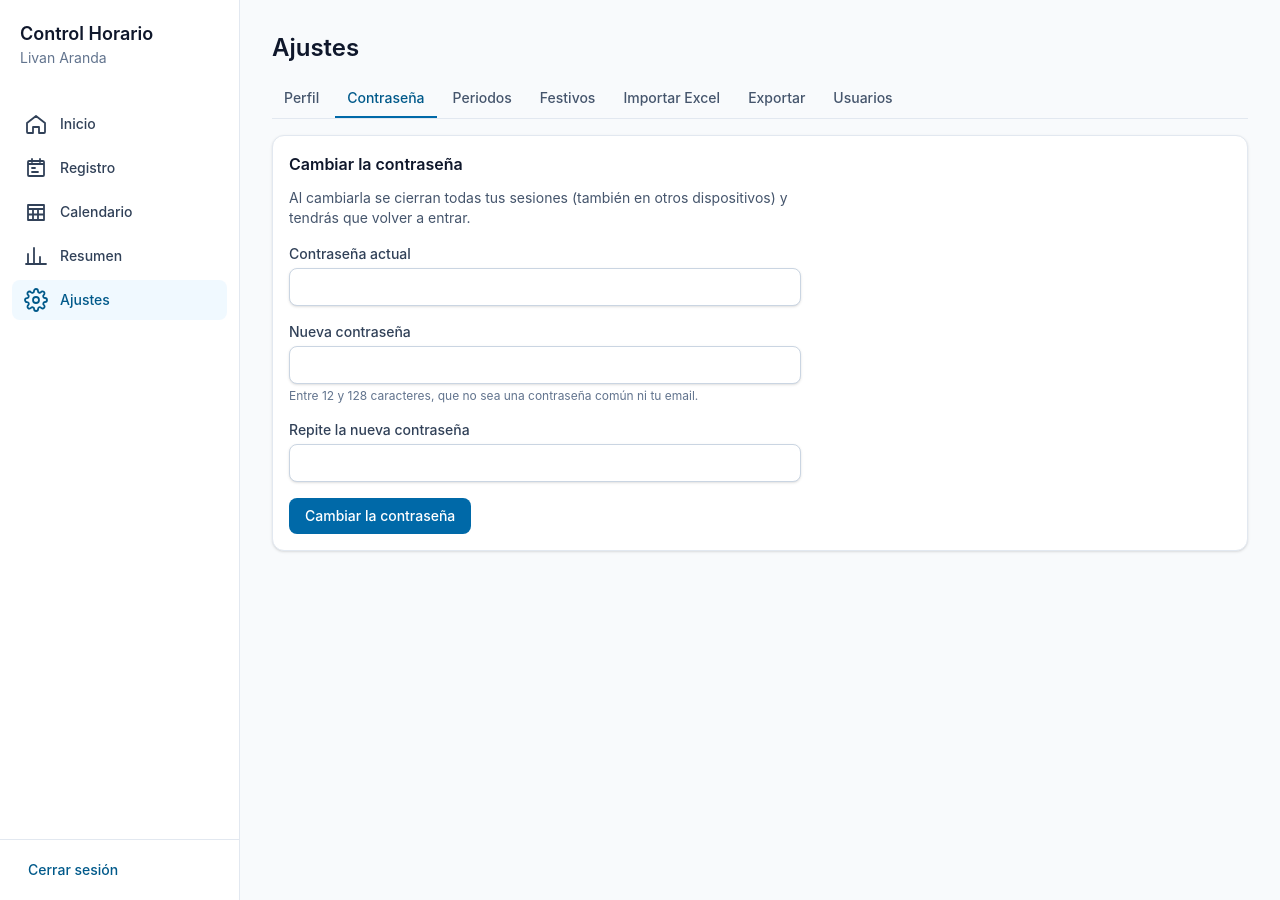
Scenario: Ajustes › cambiar la contraseña cierra la sesión y pide un nuevo login
The image size is (1280, 900).
Type "la-actual-de-siempre" into the password field labelled "Contraseña actual" at x=545, y=287, box [289, 268, 801, 306]
Type "corta" into the password field labelled "Nueva contraseña" at x=545, y=365, box [289, 346, 801, 384]
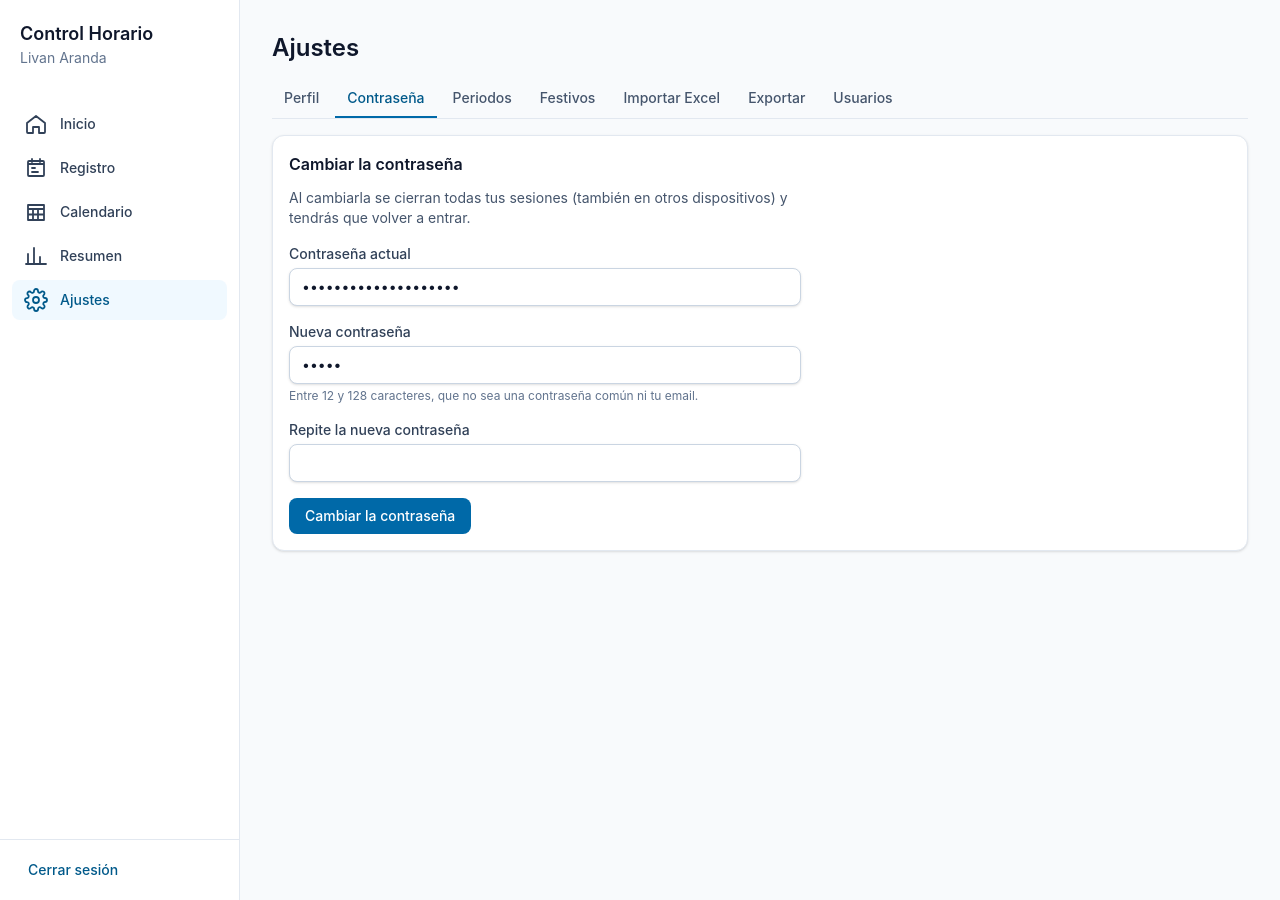
Type "otra" into the password field labelled "Repite la nueva contraseña" at x=545, y=463, box [289, 444, 801, 482]
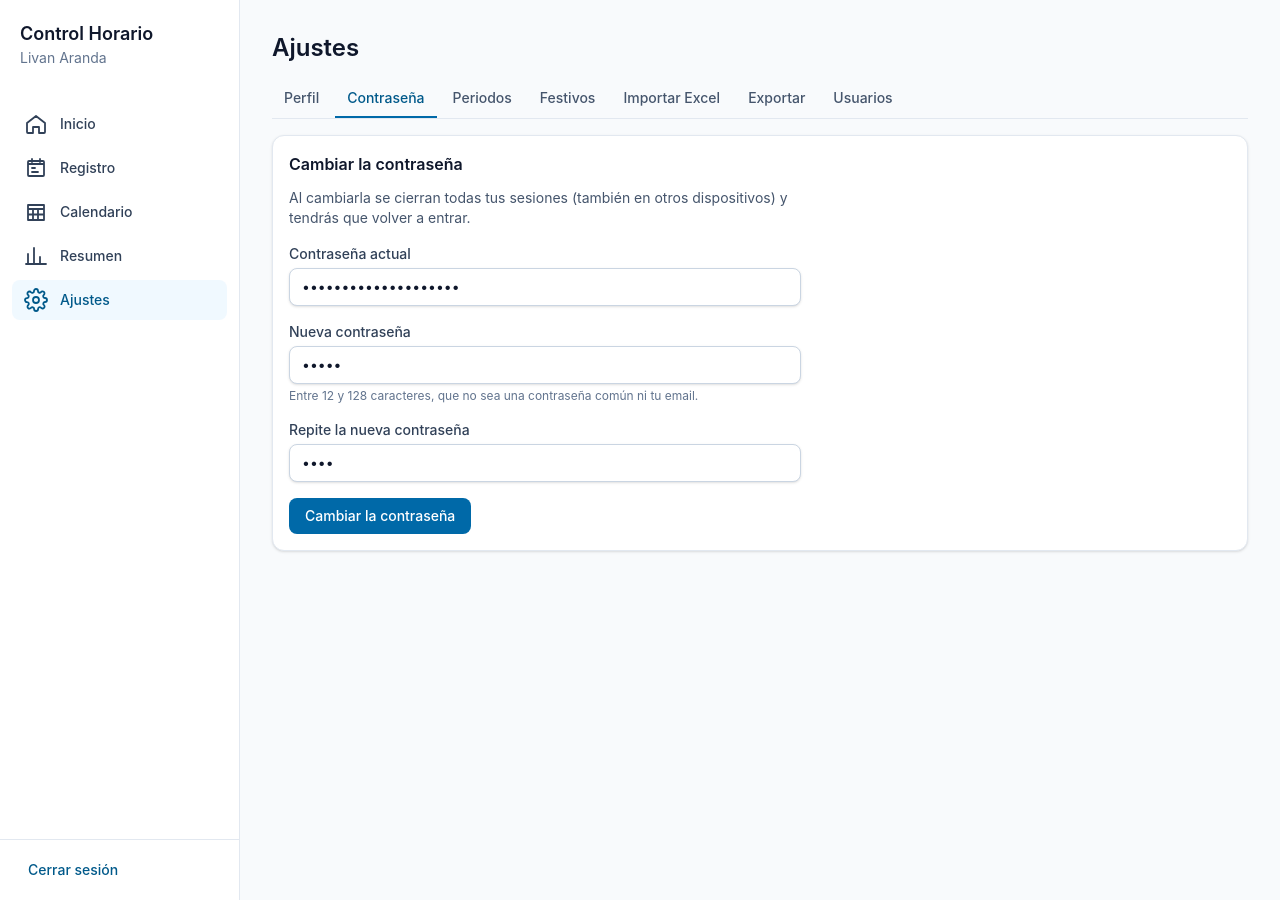
Click the button "Cambiar la contraseña" at x=380, y=516, box [289, 498, 471, 534]
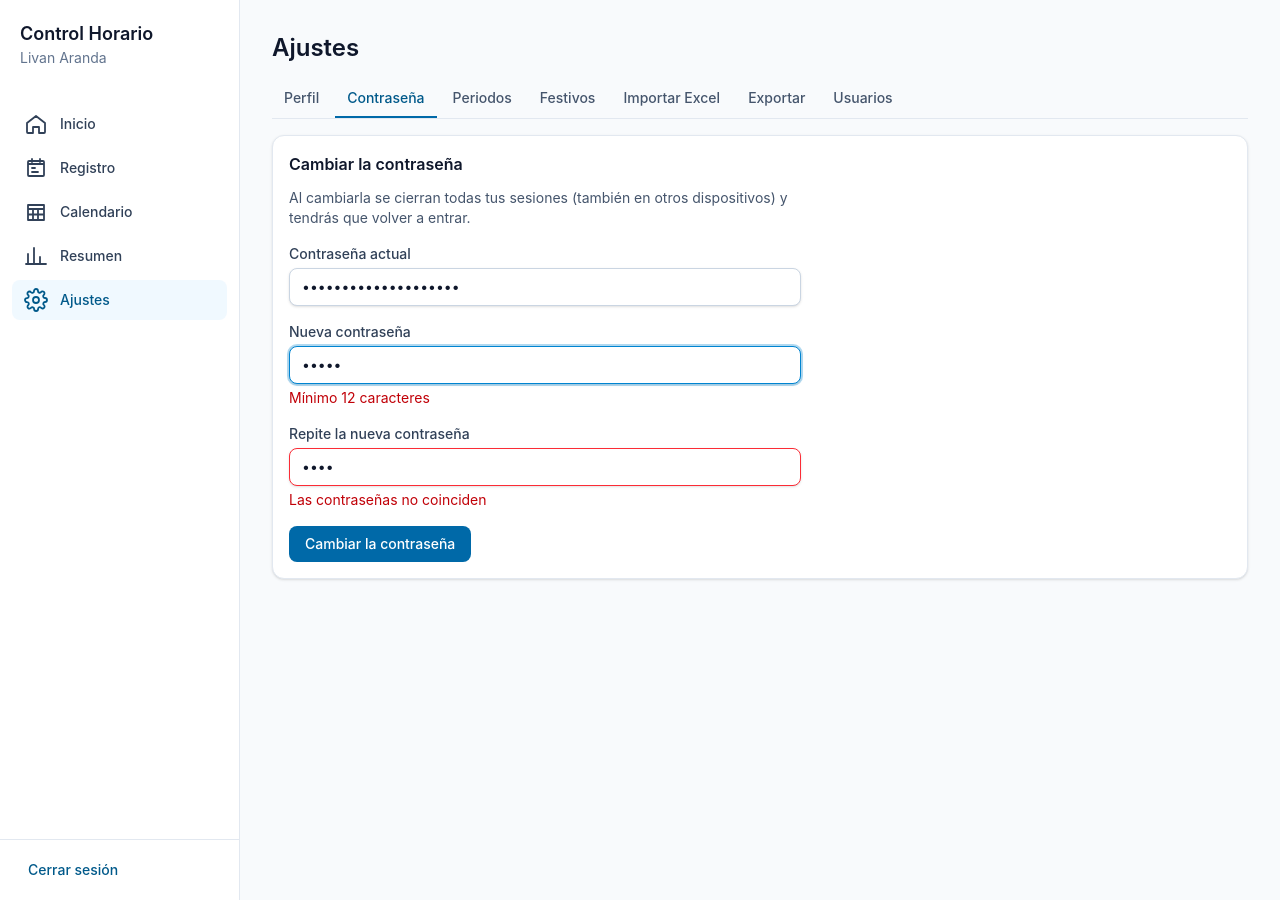
Check: the text "Mínimo 12 caracteres" is shown, box [289, 389, 430, 406]
Check: the text "Las contraseñas no coinciden" is shown, box [289, 491, 486, 508]
Type "una-contraseña-nueva-larga" into the password field labelled "Nueva contraseña" at x=545, y=365, box [289, 346, 801, 384]
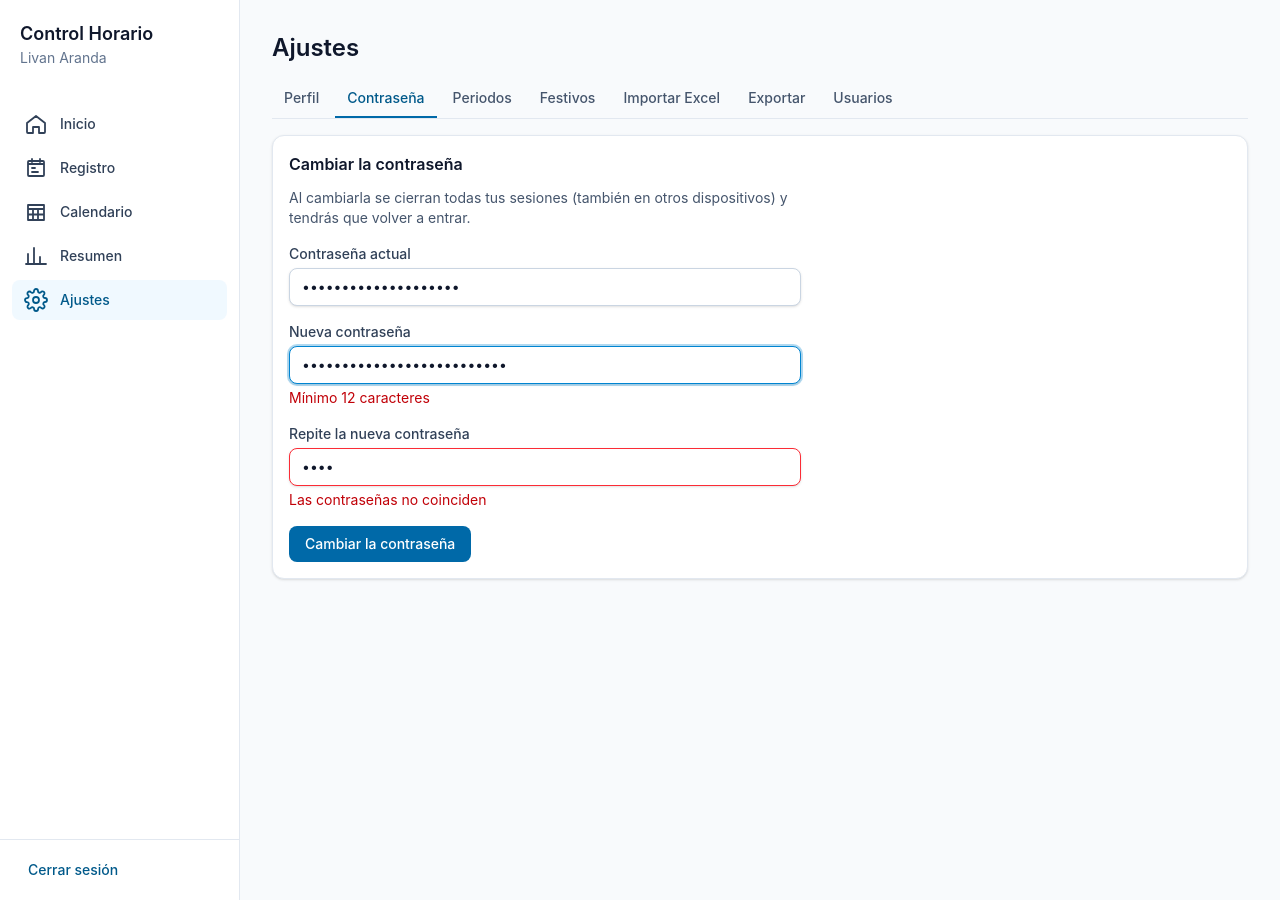
Type "una-contraseña-nueva-larga" into the password field labelled "Repite la nueva contraseña" at x=545, y=467, box [289, 448, 801, 486]
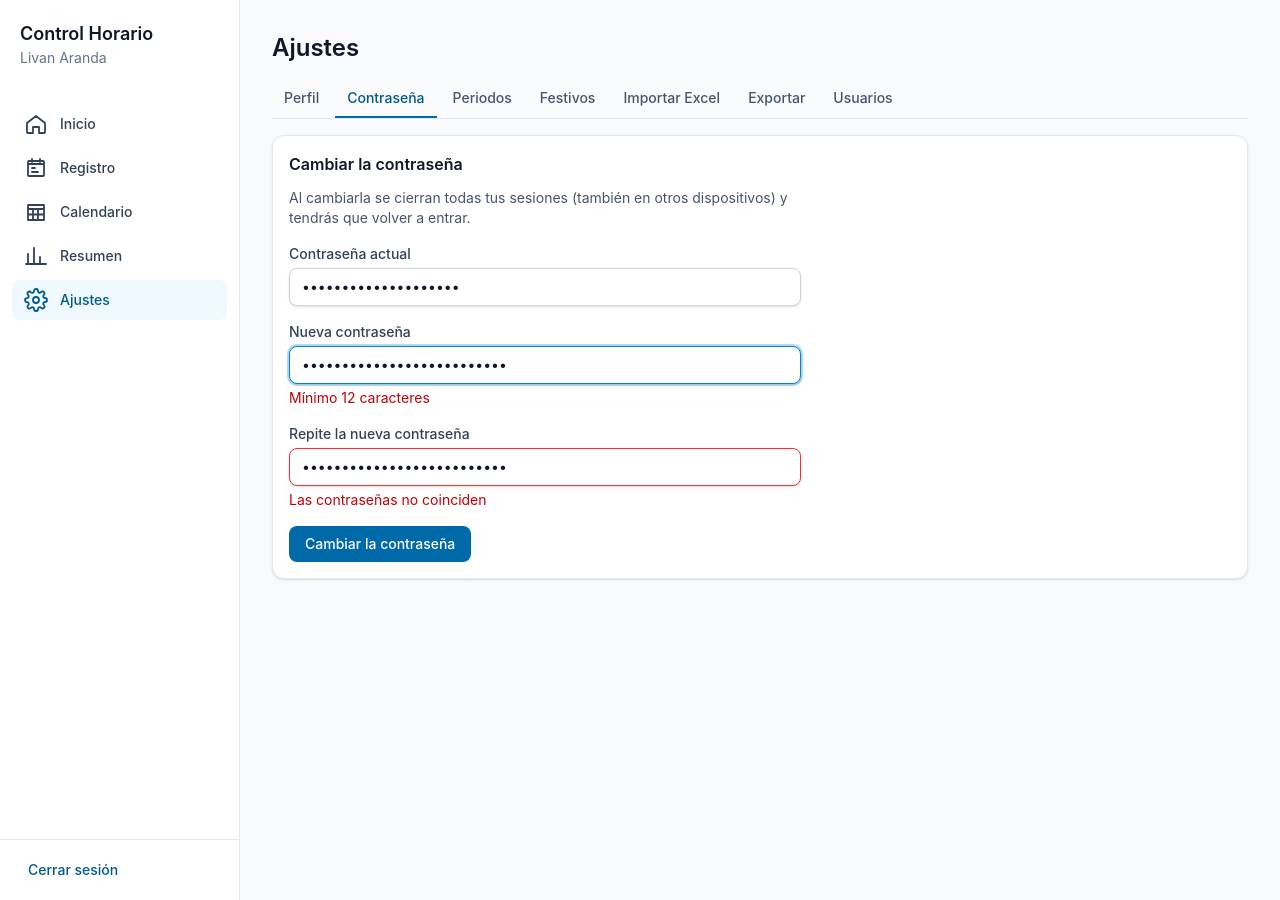
Click the button "Cambiar la contraseña" at x=380, y=544, box [289, 526, 471, 562]
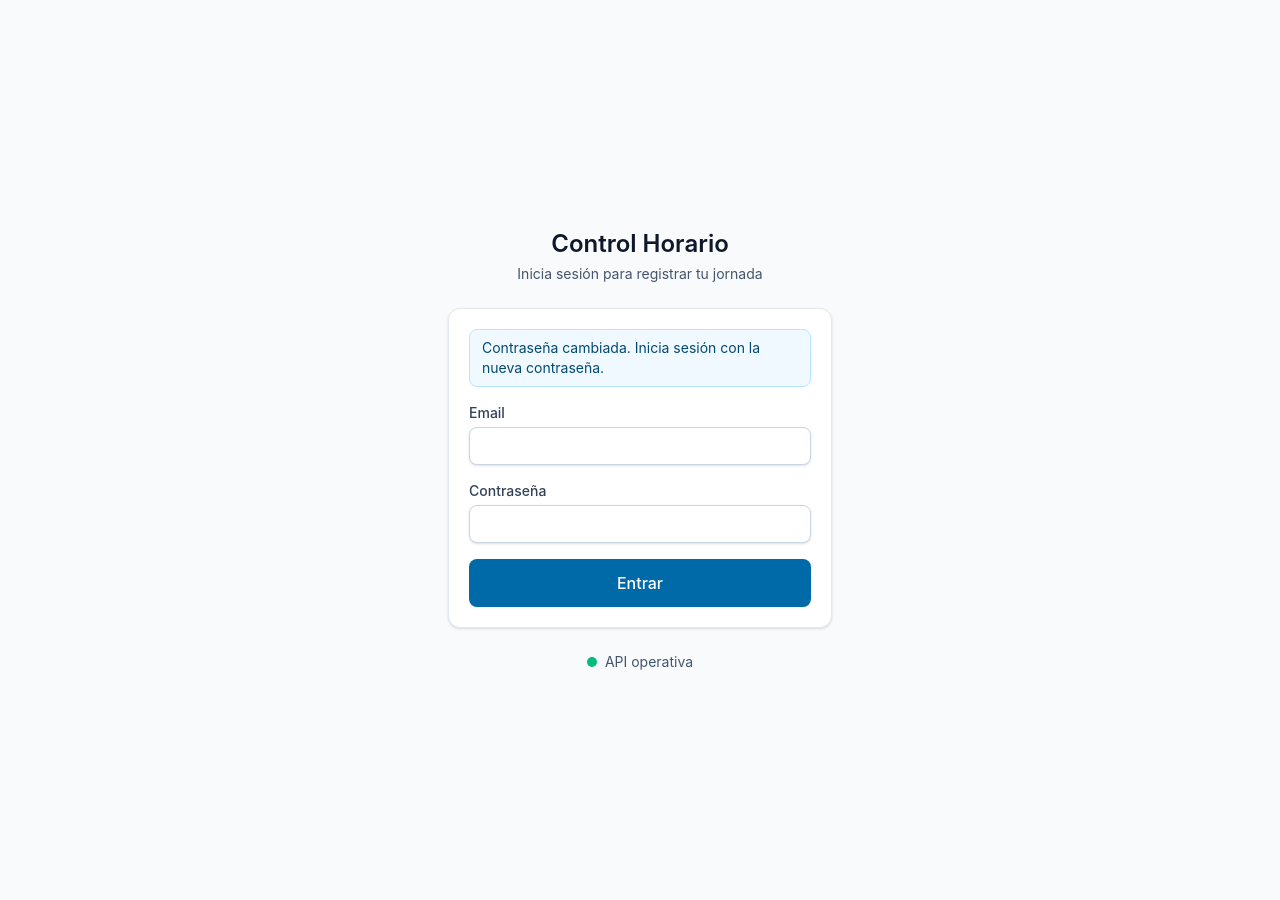
Check: the button "Entrar" is shown, box [469, 559, 811, 607]
Check: the text "Contraseña cambiada. Inicia sesión con la nueva contraseña." is shown, box [469, 329, 811, 387]
